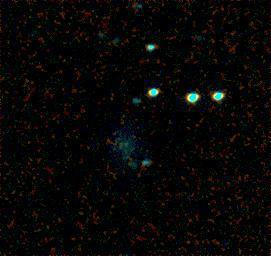star: (112, 139, 142, 169)
